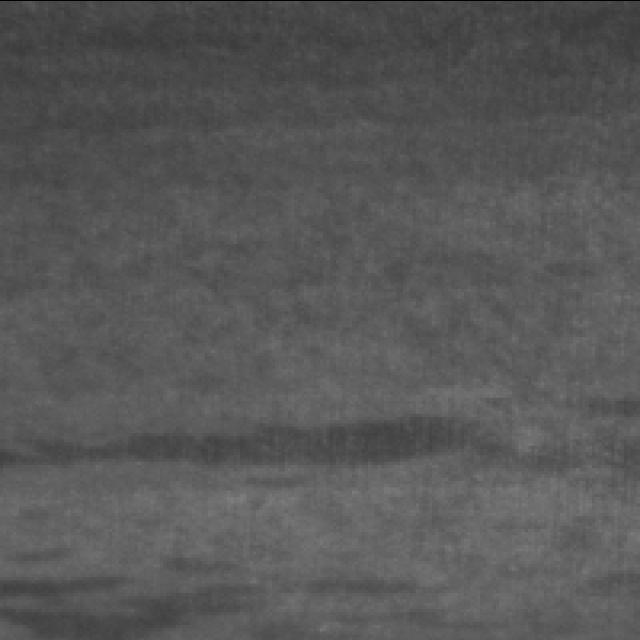inclusion: (162, 543, 480, 640), (0, 408, 506, 468), (0, 544, 144, 640)
